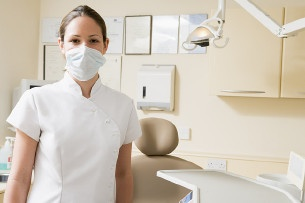Mask: (60, 31, 109, 80)
